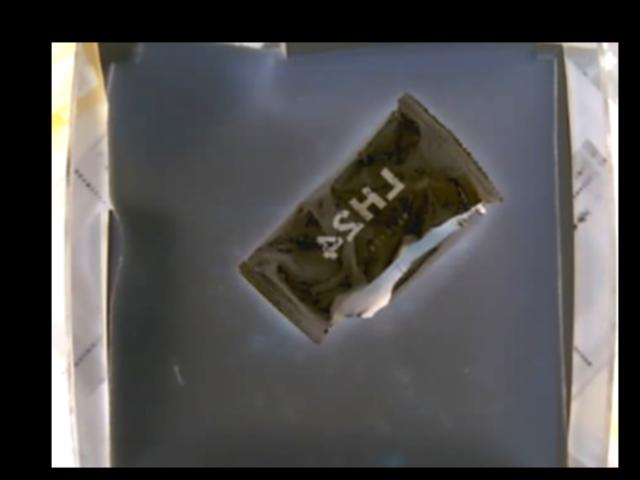Medicine: (238, 92, 504, 345)
